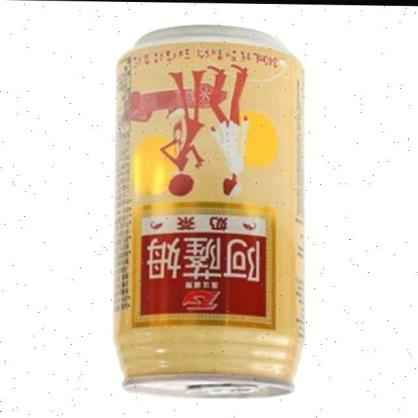can: (112, 20, 308, 401)
